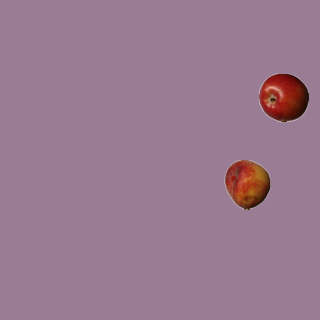Apple Braeburn: (258, 72, 308, 122)
Peach: (222, 159, 272, 209)
